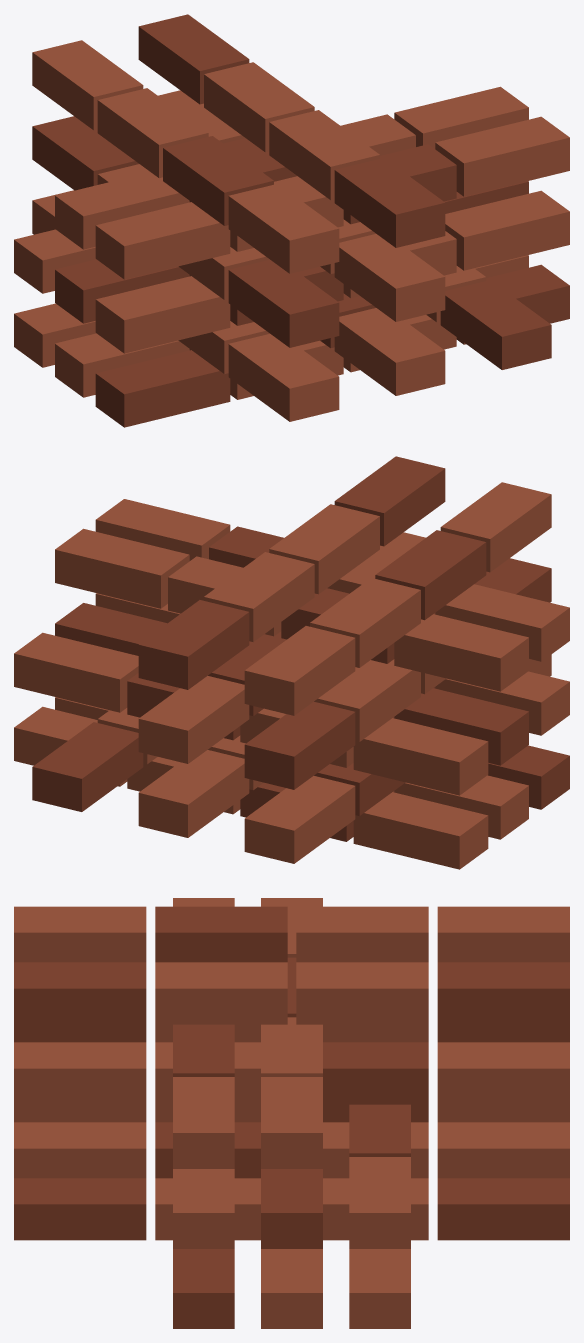
File: pile_bricks_3.glb
3 renders of one model, top to bottom at view 1: azimuth 30°, elevation 25°; view 2: azimuth 150°, elevation 25°; view 3: azimuth 270°, elevation 25°, orthographic. The views are drawn at different scales.
Parts seen in each view (by area): view 1: pile_bricks_3; view 2: pile_bricks_3; view 3: pile_bricks_3.
Part boxes in pixels (x1,y1,x2,y2): pile_bricks_3: (14, 14, 569, 427); pile_bricks_3: (14, 456, 569, 869); pile_bricks_3: (14, 898, 569, 1328).
Bounding box in the file's own units: 1.26 × 0.59 × 1.26.
